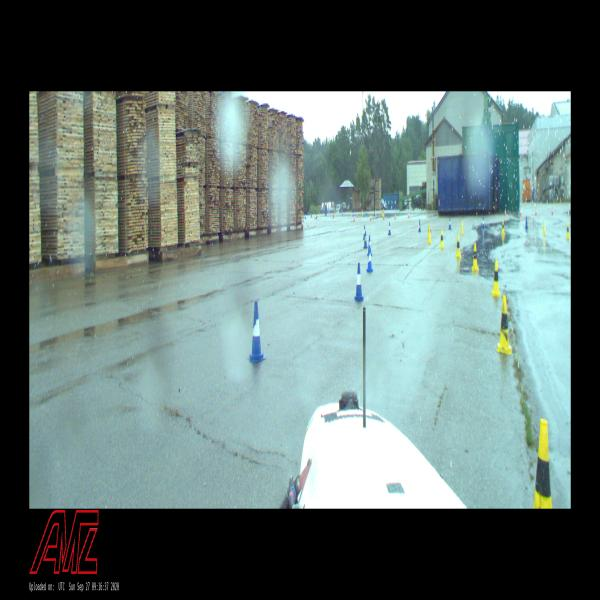blue_cone: (250, 301, 265, 363), (355, 264, 363, 301), (366, 248, 372, 272), (367, 236, 372, 256), (364, 232, 367, 248), (525, 215, 528, 229), (388, 222, 391, 235), (418, 220, 421, 232), (482, 217, 485, 229), (363, 225, 365, 239), (449, 218, 451, 229), (374, 209, 375, 216), (365, 209, 366, 216), (366, 210, 367, 216), (353, 211, 354, 217), (316, 214, 317, 219), (311, 213, 312, 218), (305, 214, 306, 219), (342, 211, 343, 216)
orange_cone: (504, 208, 507, 216), (520, 208, 522, 218), (535, 207, 537, 216), (552, 207, 554, 216), (370, 213, 372, 221), (408, 210, 410, 218), (356, 210, 358, 218), (383, 213, 385, 220), (332, 213, 334, 219), (354, 214, 355, 222), (395, 212, 396, 220), (315, 214, 316, 220)
yellow_cone: (533, 418, 552, 509), (497, 296, 512, 354), (492, 260, 500, 296), (472, 242, 479, 270), (456, 235, 461, 257), (440, 230, 444, 248), (566, 222, 570, 240), (428, 228, 432, 243), (501, 221, 505, 235), (428, 222, 431, 238), (461, 221, 464, 234), (543, 221, 545, 236), (350, 210, 352, 216), (375, 208, 376, 215), (382, 209, 383, 216), (383, 208, 384, 215), (319, 211, 320, 217), (362, 208, 363, 214), (335, 211, 336, 216)
